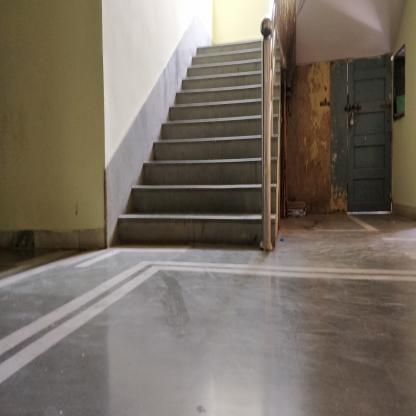stairs: (198, 48, 260, 254)
